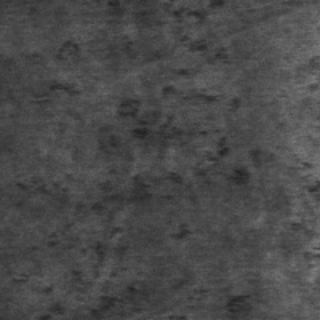rolled pit: (11, 94, 227, 318)
